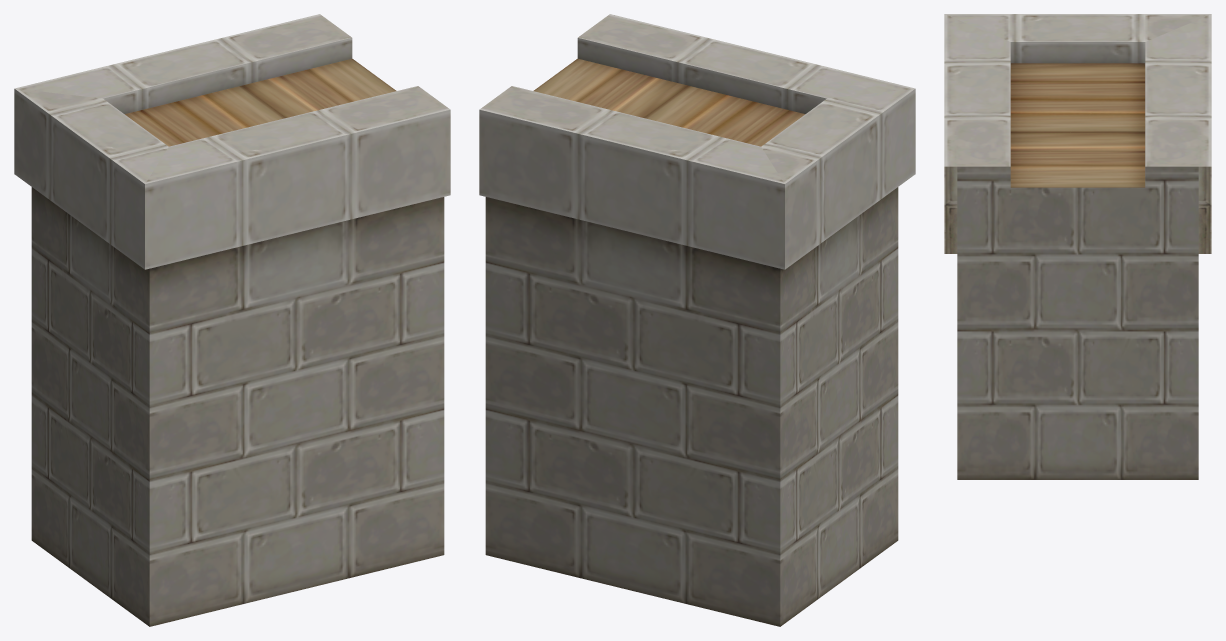
File: CastleWall02.FBX
3 renders of one model, left to right at view 1: azimuth 30°, elevation 25°; view 2: azimuth 150°, elevation 25°; view 3: azimuth 270°, elevation 25°, orthographic. The views are drawn at different scales.
Parts seen in each view (by area): view 1: CastleWall02; view 2: CastleWall02; view 3: CastleWall02.
Part boxes in pixels (left/top/right/bottom): CastleWall02: left=14, top=14, right=450, bottom=626; CastleWall02: left=479, top=14, right=915, bottom=626; CastleWall02: left=944, top=14, right=1211, bottom=479.
Bounding box in the file's own units: 286 × 402 × 212.
